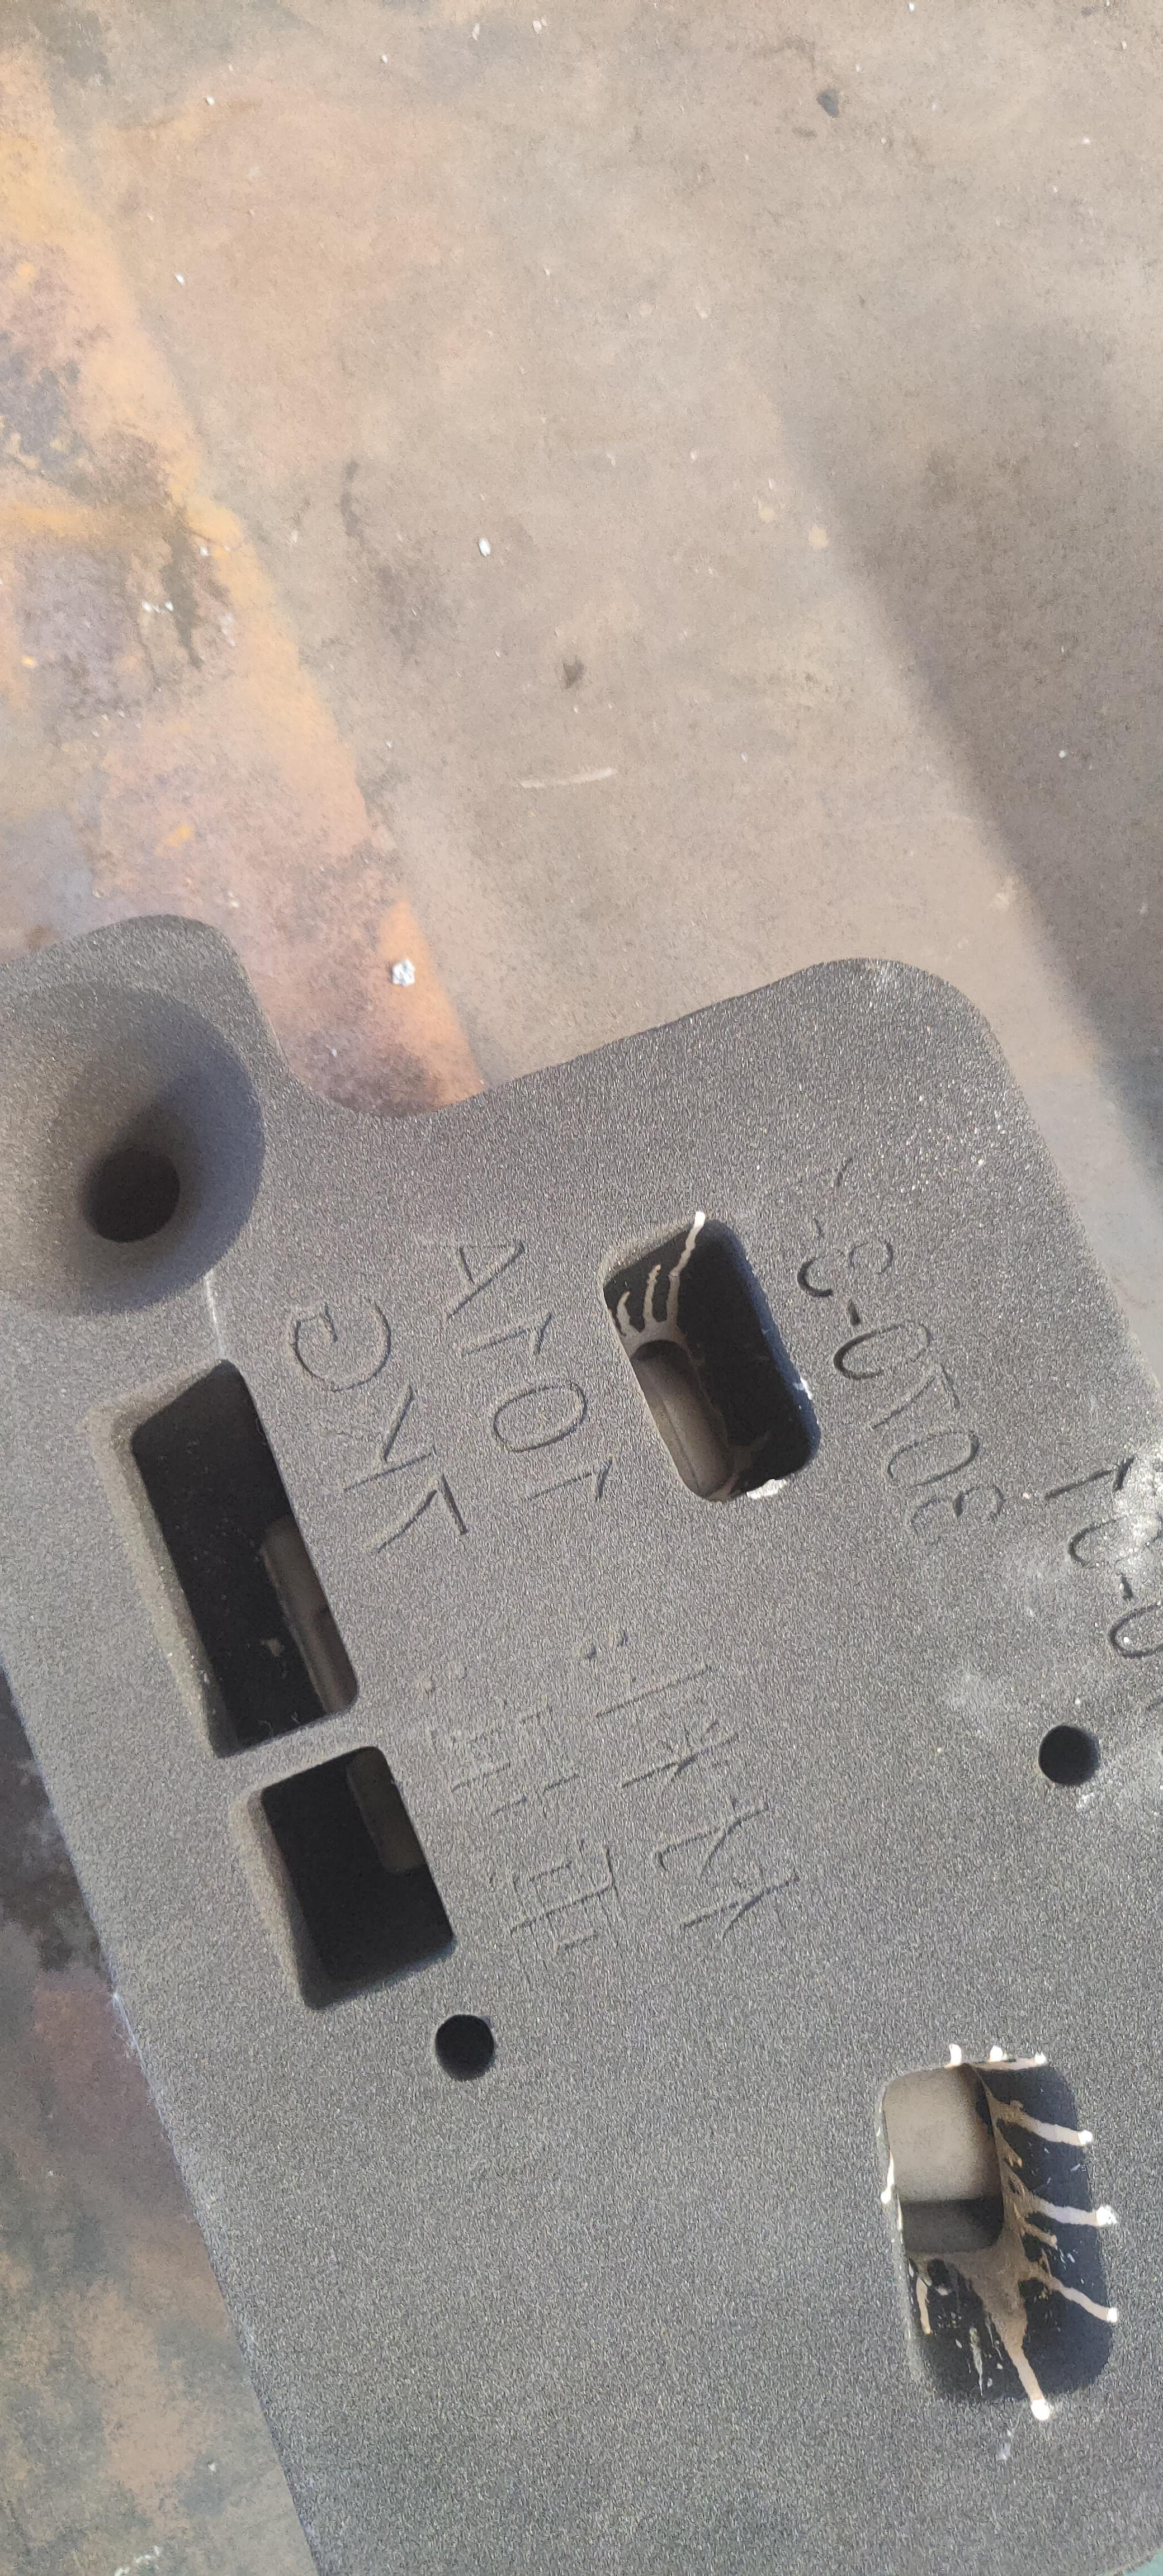pouring hole: (0, 978, 269, 1319)
